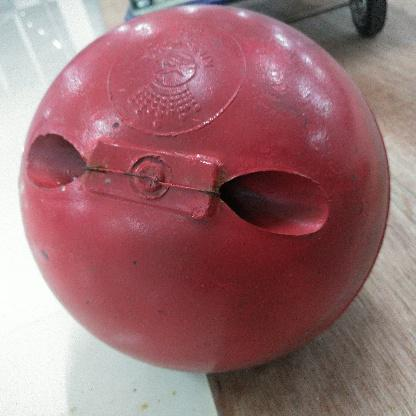red_buoy: (16, 8, 392, 376)
